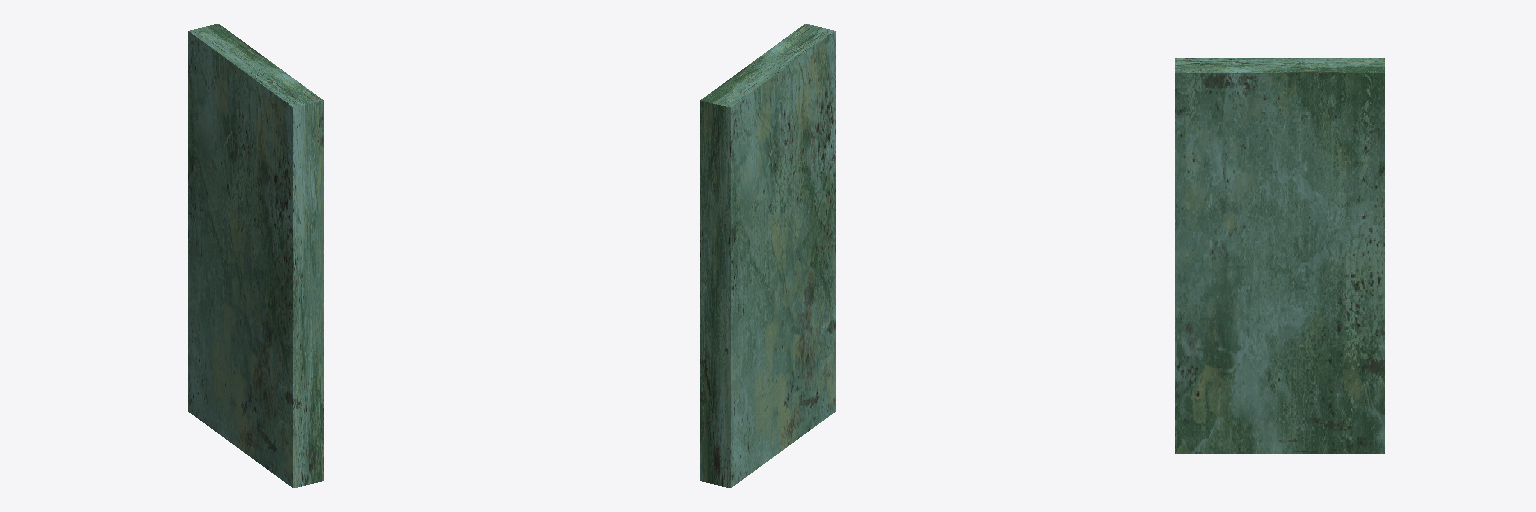
3 views of the same model, side by side, from view 1: azimuth 30°, elevation 25°; view 2: azimuth 150°, elevation 25°; view 3: azimuth 270°, elevation 25° (orthographic).
Parts seen in each view (by area): view 1: 立方体.002; view 2: 立方体.002; view 3: 立方体.002.
Boxes of the visible parts, box(x1,y1,x2,y2) form: 立方体.002: box(188, 24, 323, 487); 立方体.002: box(700, 24, 835, 487); 立方体.002: box(1175, 58, 1384, 453).
Bounding box in the file's own units: 0.1 × 1.2 × 0.6.
1 materials, 1 textured.